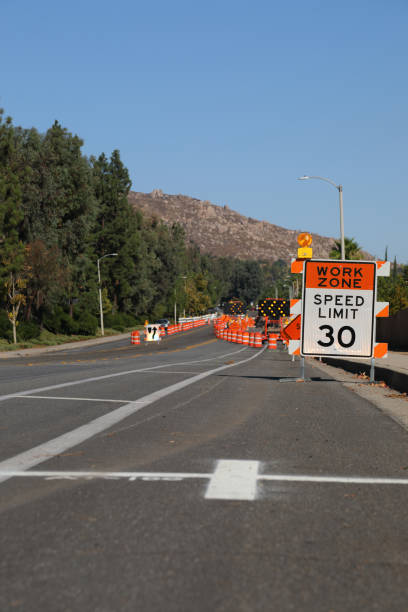SpeedLimitSign: (299, 287, 374, 357)
